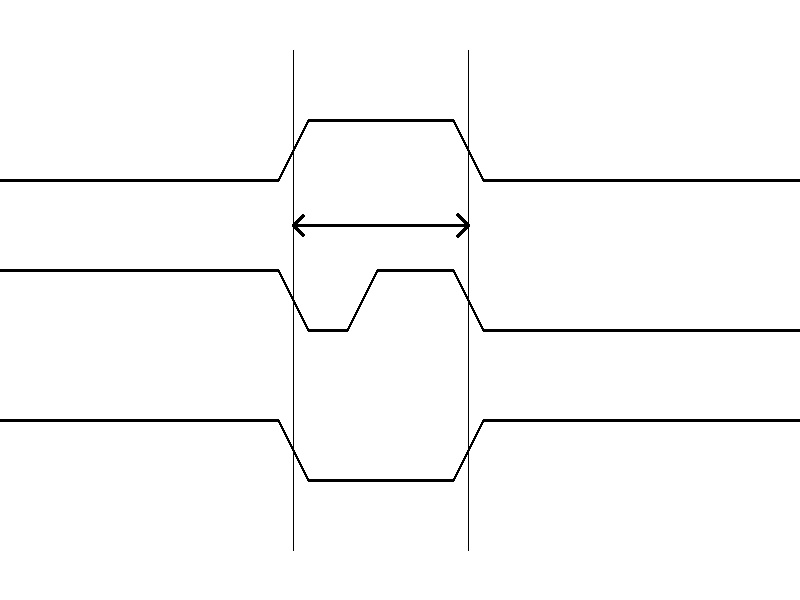double_arrow: (293, 210, 468, 240)
